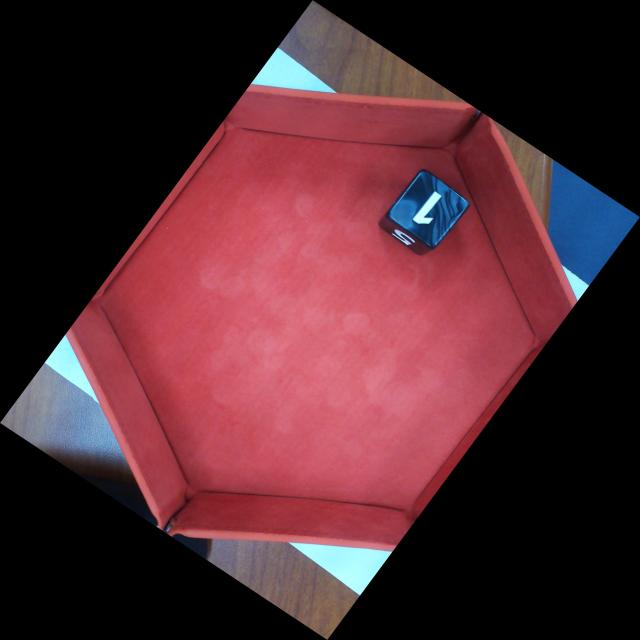dice: (388, 168, 471, 250)
